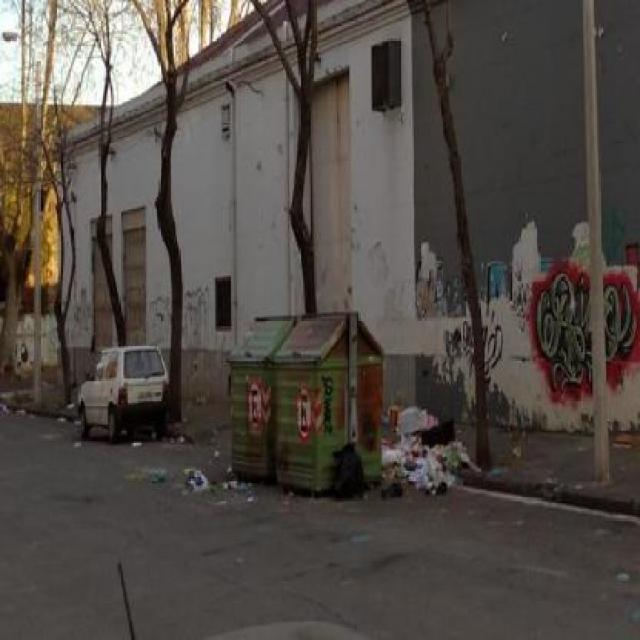garbage: (186, 308, 520, 507), (122, 442, 206, 518)
